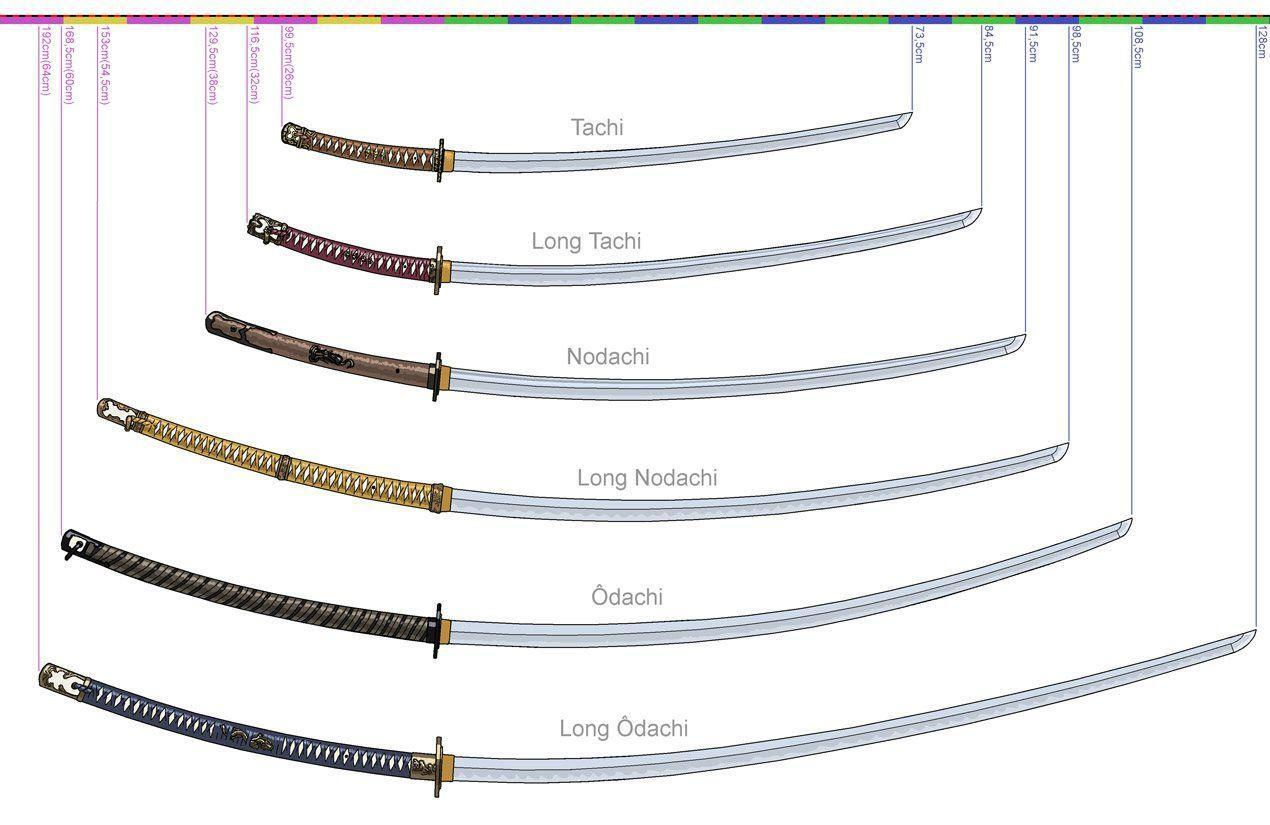espada: (27, 647, 1270, 800), (78, 374, 1084, 534), (38, 517, 1160, 655), (178, 280, 1044, 412), (225, 191, 997, 314), (270, 72, 930, 190)
